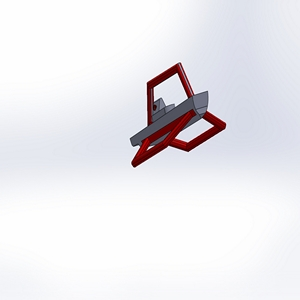submarine: (108, 56, 233, 178)
